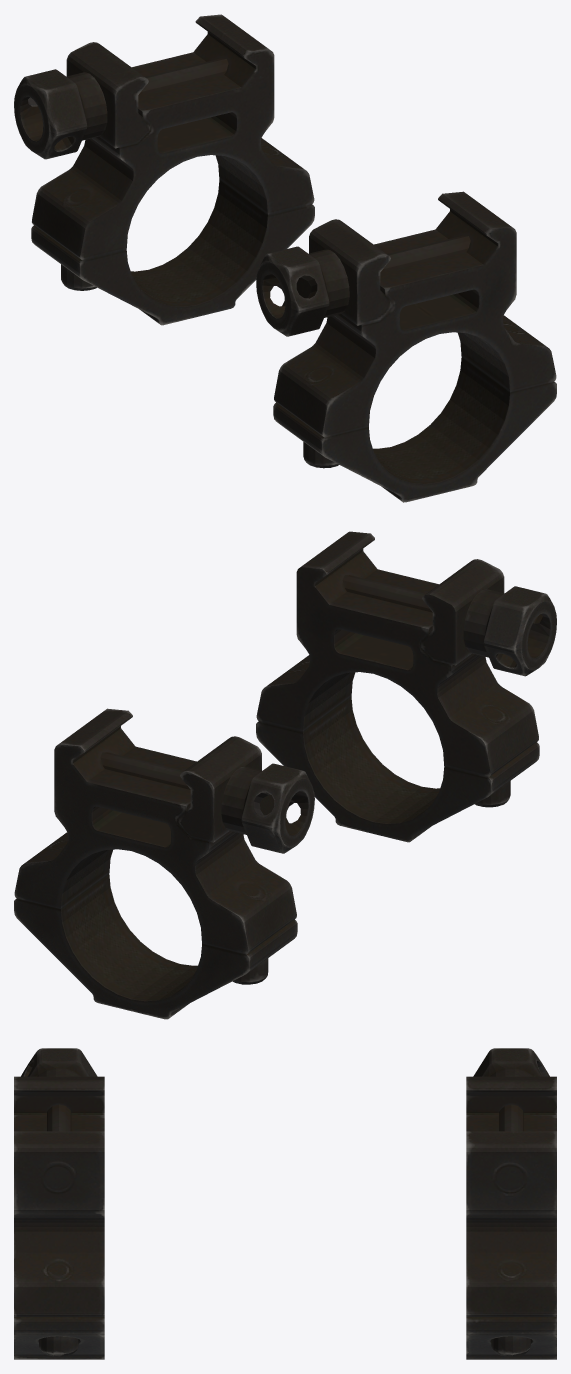
3 views of the same model, one above another, from view 1: azimuth 30°, elevation 25°; view 2: azimuth 150°, elevation 25°; view 3: azimuth 270°, elevation 25° (orthographic). The views are drawn at different scales.
Visible parts, largest first — view 1: TW_5dff77c759400025ea5150cf_PZ_Import; view 2: TW_5dff77c759400025ea5150cf_PZ_Import; view 3: TW_5dff77c759400025ea5150cf_PZ_Import.
Boxes of the visible parts, bbox=[...] form: TW_5dff77c759400025ea5150cf_PZ_Import: bbox=[14, 14, 556, 502]; TW_5dff77c759400025ea5150cf_PZ_Import: bbox=[14, 531, 556, 1019]; TW_5dff77c759400025ea5150cf_PZ_Import: bbox=[14, 1048, 556, 1359].
Bounding box in the file's own units: 0.0268 × 0.0522 × 0.0251.
1 material, 1 textured.
